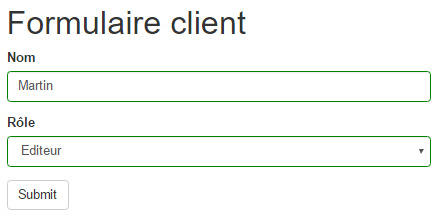_form_: (1, 1, 436, 218)
button: (7, 179, 69, 211)
field: (4, 69, 431, 102)
field_with_label: (2, 51, 432, 103), (5, 117, 432, 169)
select: (6, 135, 432, 168)
